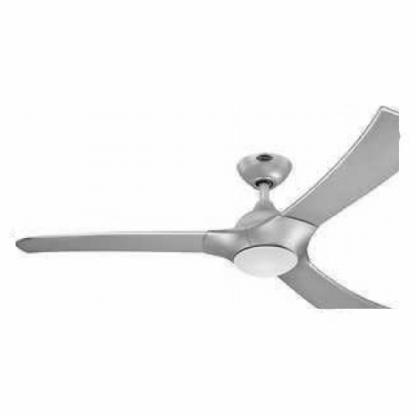ceiling-fan: (15, 106, 400, 310)
